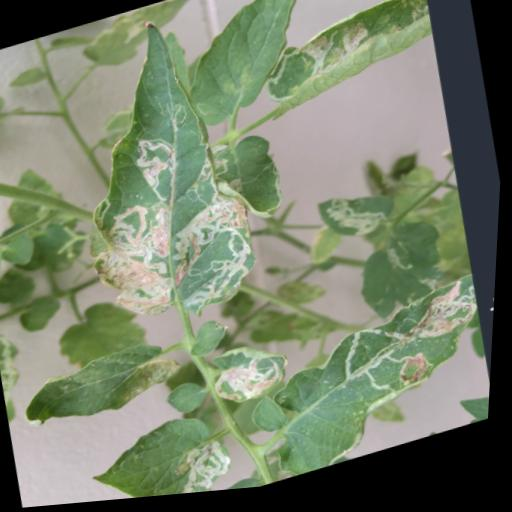Leaf_Miner: (42, 0, 280, 354), (235, 279, 499, 493), (252, 0, 444, 128), (86, 405, 245, 505), (349, 217, 459, 338), (203, 131, 291, 241), (211, 337, 302, 414), (312, 184, 402, 254)
